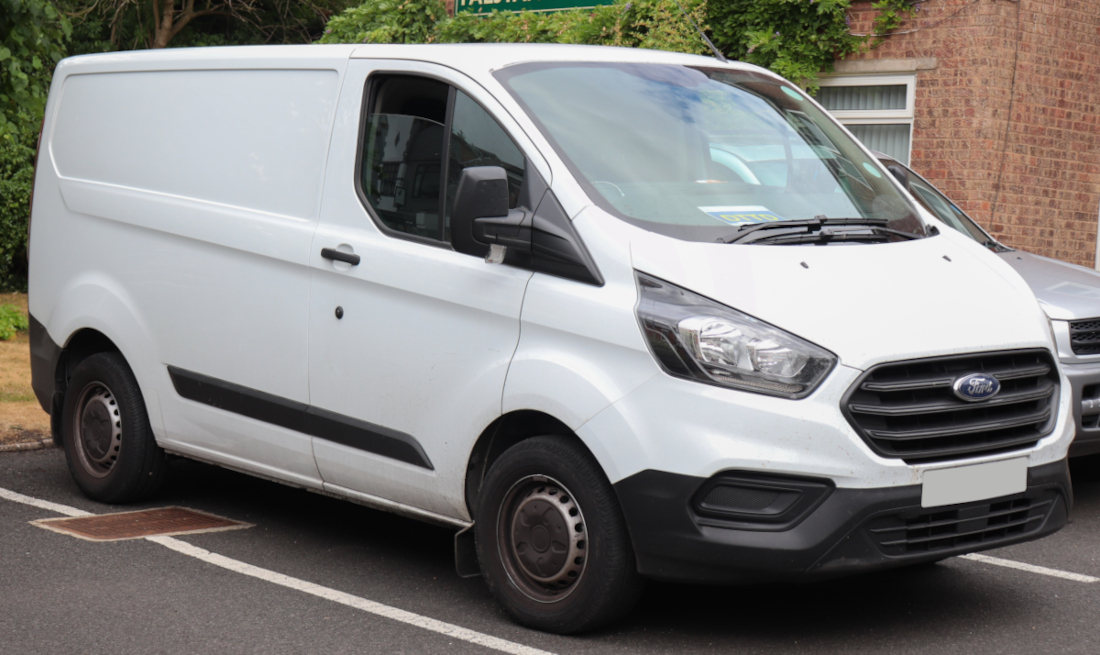van: (25, 41, 1077, 633)
